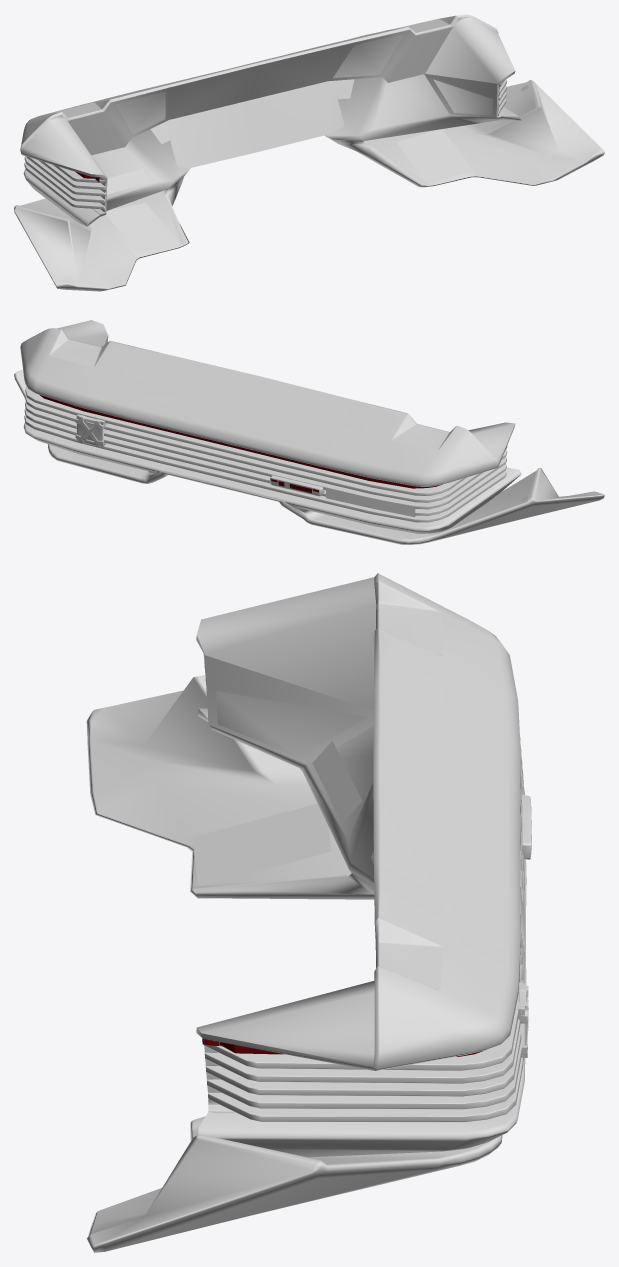
Rendered from v_sport3_quadra_turbo_genii__ext01_bumper_f_02.glb.
3 renders of one model, top to bottom at view 1: azimuth 30°, elevation 25°; view 2: azimuth 150°, elevation 25°; view 3: azimuth 270°, elevation 25°, orthographic. The views are drawn at different scales.
Parts seen in each view (by area): view 1: submesh_00_LOD_1.017, submesh_04_LOD_1.002, submesh_03_LOD_1.003; view 2: submesh_00_LOD_1.017, submesh_04_LOD_1.002, submesh_03_LOD_1.003, submesh_02_LOD_1.005, submesh_05_LOD_1.002; view 3: submesh_00_LOD_1.017, submesh_04_LOD_1.002, submesh_03_LOD_1.003.
Boxes of the visible parts, x1,y1,x2,y2 form: submesh_00_LOD_1.017: [14, 14, 604, 291]; submesh_04_LOD_1.002: [68, 27, 533, 252]; submesh_03_LOD_1.003: [103, 28, 397, 194]; submesh_00_LOD_1.017: [14, 320, 604, 544]; submesh_04_LOD_1.002: [23, 335, 533, 501]; submesh_03_LOD_1.003: [86, 346, 399, 435]; submesh_02_LOD_1.005: [39, 394, 442, 488]; submesh_05_LOD_1.002: [325, 488, 415, 517]; submesh_00_LOD_1.017: [86, 573, 531, 1252]; submesh_04_LOD_1.002: [192, 632, 528, 1134]; submesh_03_LOD_1.003: [312, 636, 508, 968].
Size of the model in its own units: 2.13 by 0.4573 by 0.747.
